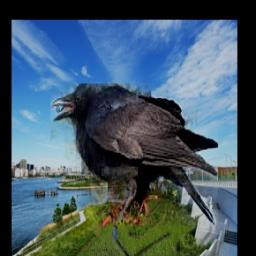Crow: (50, 84, 218, 227)
